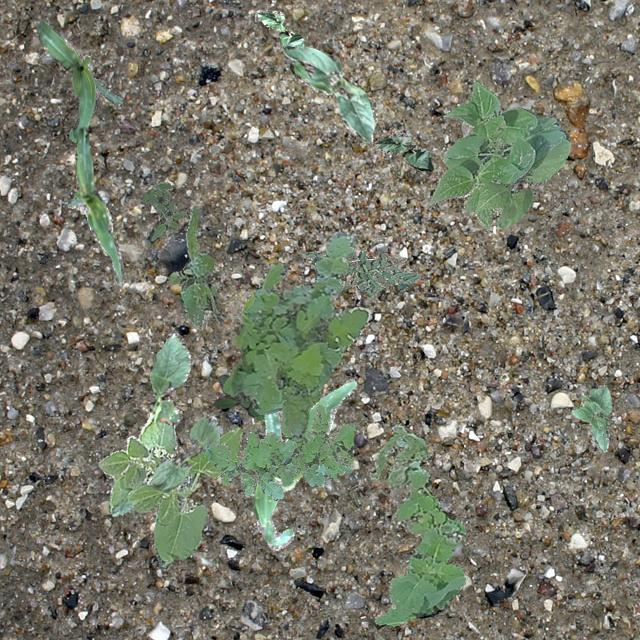crop: (98, 416, 242, 568), (428, 80, 570, 230), (252, 378, 356, 548), (36, 20, 122, 142), (66, 126, 124, 286), (282, 44, 372, 142), (150, 414, 218, 492), (148, 329, 190, 424), (570, 384, 612, 452), (372, 130, 432, 170), (255, 8, 302, 46)
weed: (222, 232, 370, 438), (368, 422, 464, 626), (204, 404, 354, 500), (168, 204, 226, 326), (304, 248, 420, 296), (140, 182, 188, 240), (212, 374, 264, 418)
